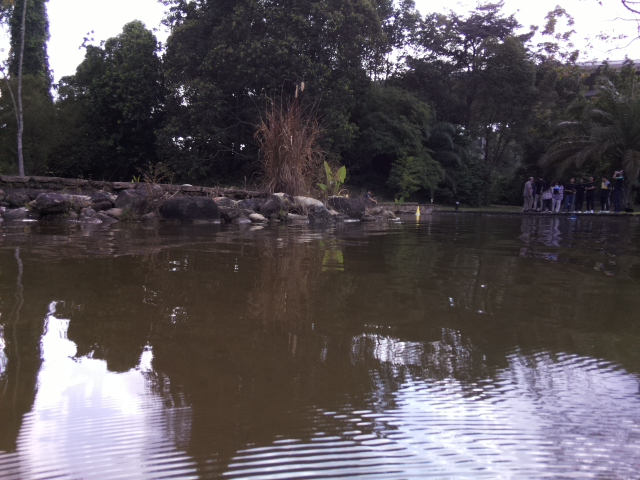checkpoint: (415, 205, 422, 216)
